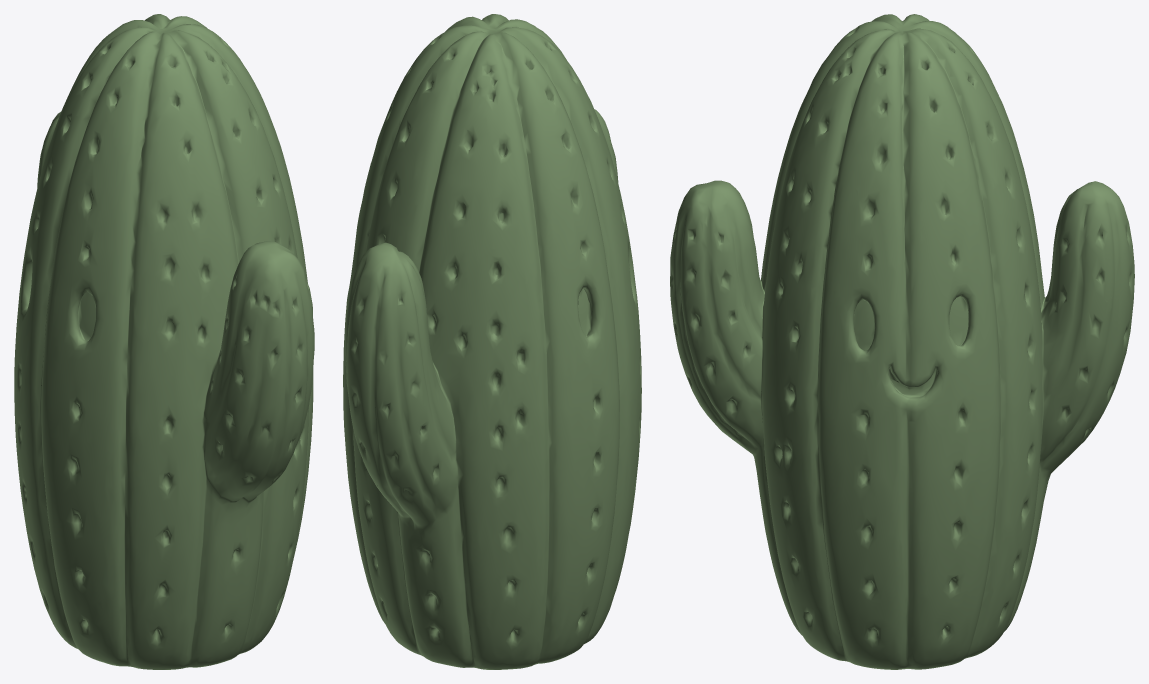
The model's file is barrel-cactus.glb.
The picture shows the model from 3 angles, left to right: view 1: azimuth 30°, elevation 25°; view 2: azimuth 150°, elevation 25°; view 3: azimuth 270°, elevation 25°; orthographic projection.
Parts seen in each view (by area): view 1: tripo_printable_source; view 2: tripo_printable_source; view 3: tripo_printable_source.
Part boxes in pixels (left/top/right/bottom): tripo_printable_source: left=14, top=14, right=314, bottom=669; tripo_printable_source: left=343, top=14, right=641, bottom=669; tripo_printable_source: left=670, top=14, right=1134, bottom=669.
Bounding box in the file's own units: 44.95 × 100 × 70.
